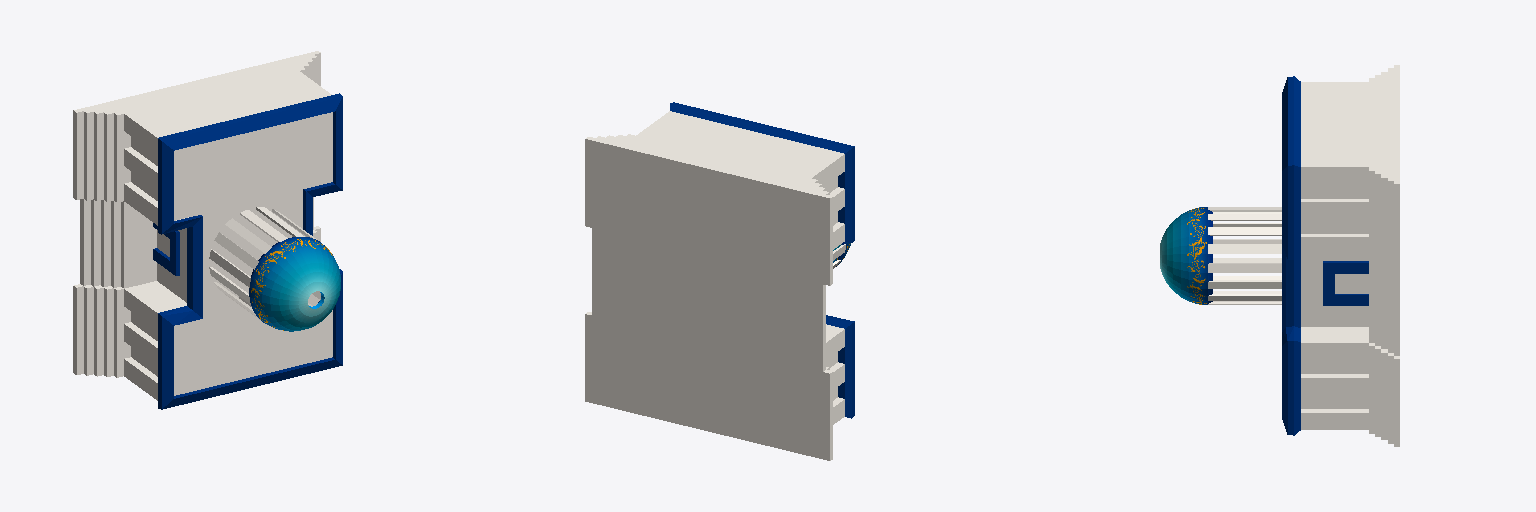
3 views of the same model, side by side, from view 1: azimuth 30°, elevation 25°; view 2: azimuth 150°, elevation 25°; view 3: azimuth 270°, elevation 25° (orthographic).
Visible parts, largest first — view 1: Cube, Sphere.001; view 2: Cube; view 3: Cube, Sphere.001.
Part boxes in pixels (x1,y1,x2,y2): Cube: (73,51,342,409); Sphere.001: (209,207,340,331); Cube: (585,102,854,460); Cube: (1282,65,1399,446); Sphere.001: (1160,207,1281,304).
Size of the model in its own units: 705 by 744 by 601.
2 materials, 2 textured.